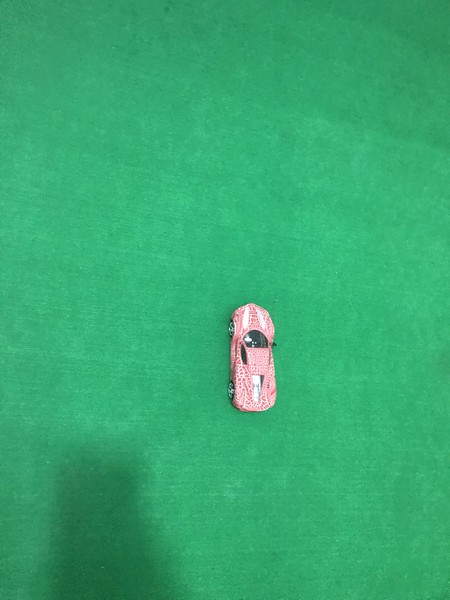RC: (225, 298, 281, 414)
